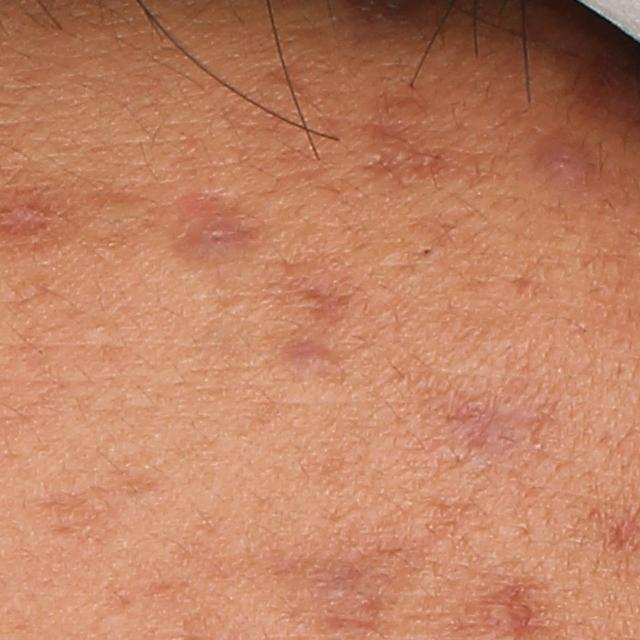comedo: (418, 244, 441, 258)
